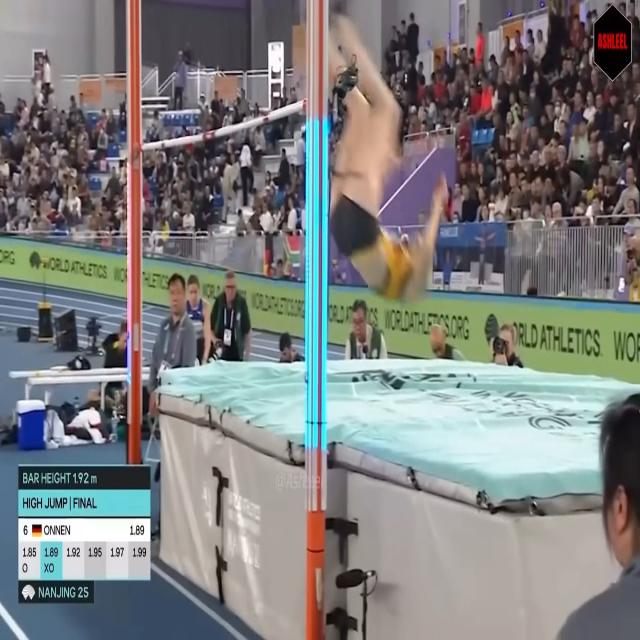land: (328, 0, 448, 304)
